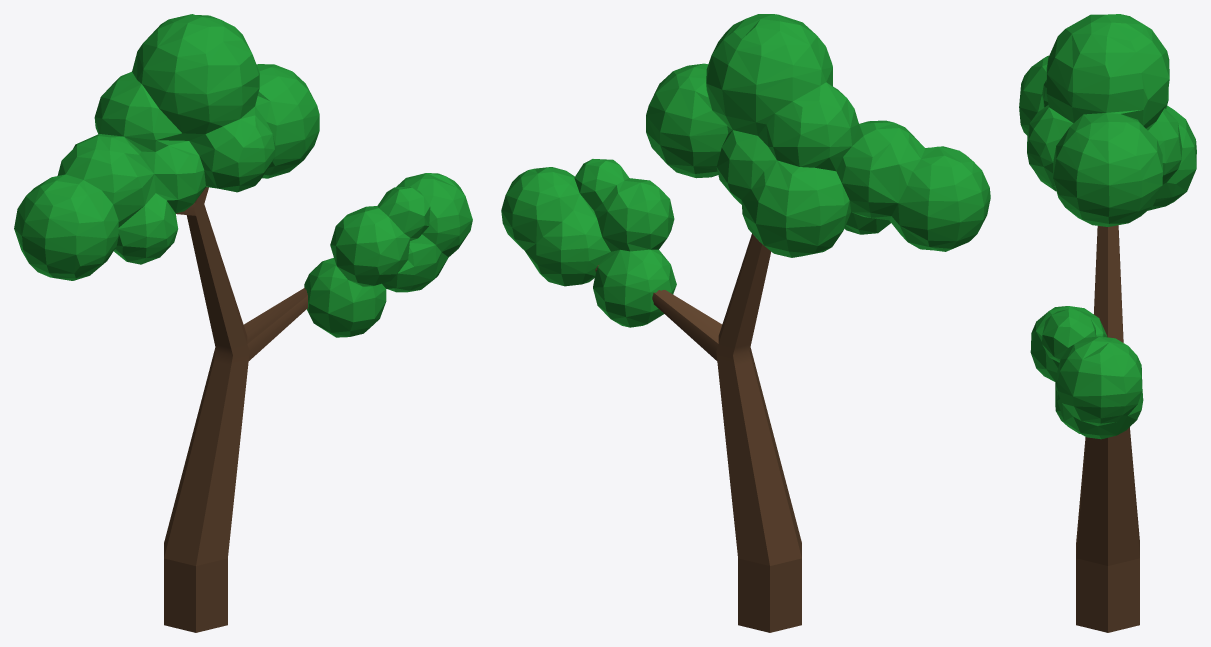
Rendered from LP_Tree_V2.fbx.
3 renders of one model, left to right at view 1: azimuth 30°, elevation 25°; view 2: azimuth 150°, elevation 25°; view 3: azimuth 270°, elevation 25°, orthographic.
Visible parts, largest first — view 1: polySurface1; view 2: polySurface1; view 3: polySurface1.
Part boxes in pixels (x1=…): polySurface1: x1=14, y1=14, x2=472, y2=632; polySurface1: x1=501, y1=14, x2=990, y2=632; polySurface1: x1=1019, y1=14, x2=1196, y2=632.
Size of the model in its own units: 2443 by 3026 by 815.
